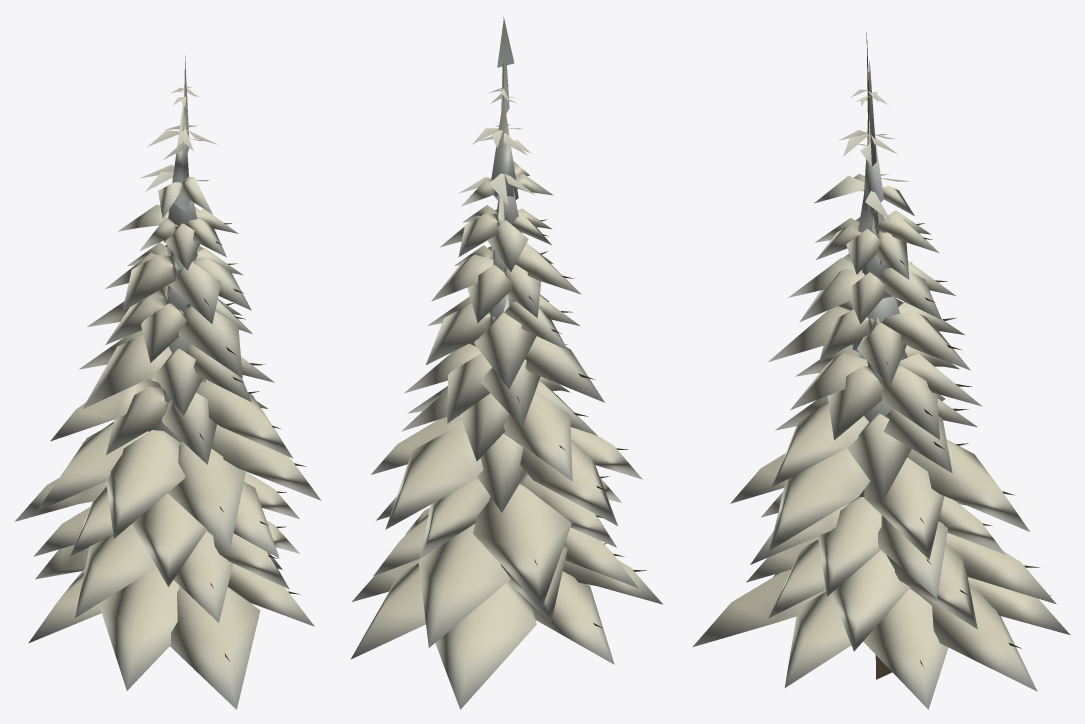
The picture shows the model from 3 angles, left to right: view 1: azimuth 30°, elevation 25°; view 2: azimuth 150°, elevation 25°; view 3: azimuth 270°, elevation 25°; orthographic projection. The views are drawn at different scales.
Visible parts, largest first — view 1: crown; view 2: crown; view 3: crown, trunk.
Part boxes in pixels (box(x1,y1,x2,y2)): crown: box(14, 55, 321, 709); crown: box(350, 16, 662, 709); crown: box(692, 60, 1069, 709); trunk: box(866, 32, 1051, 679).
Bounding box in the file's own units: 6.76 × 15.81 × 8.16.
